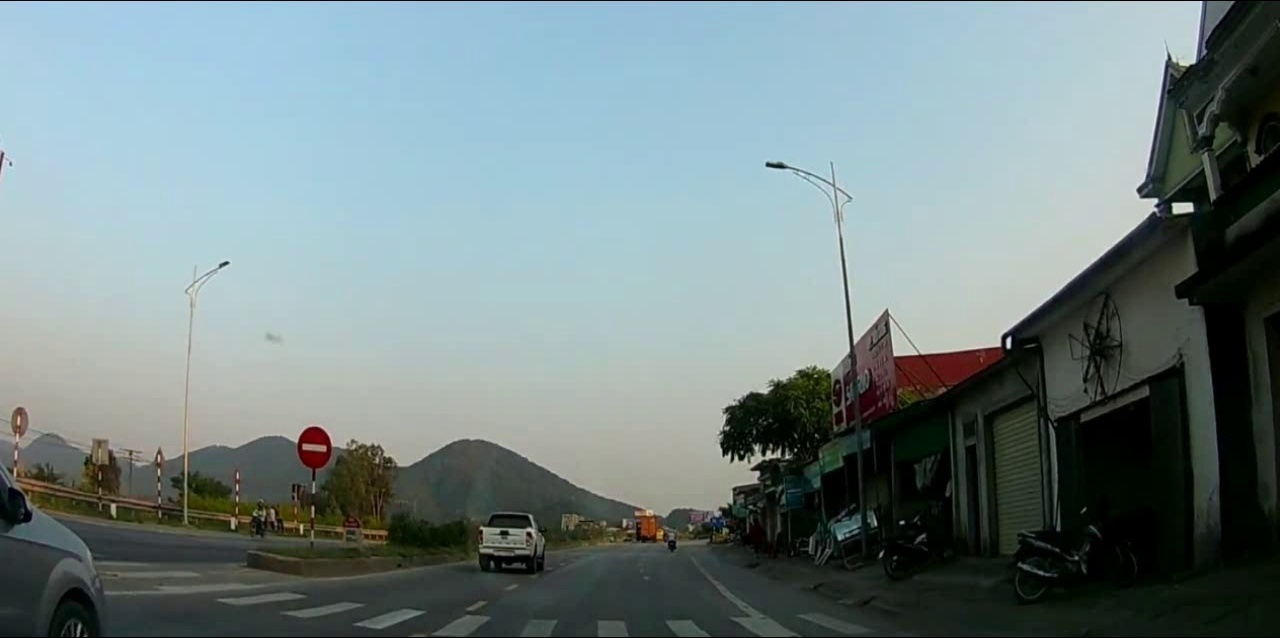Cam di nguoc chieu: (296, 425, 331, 470)
